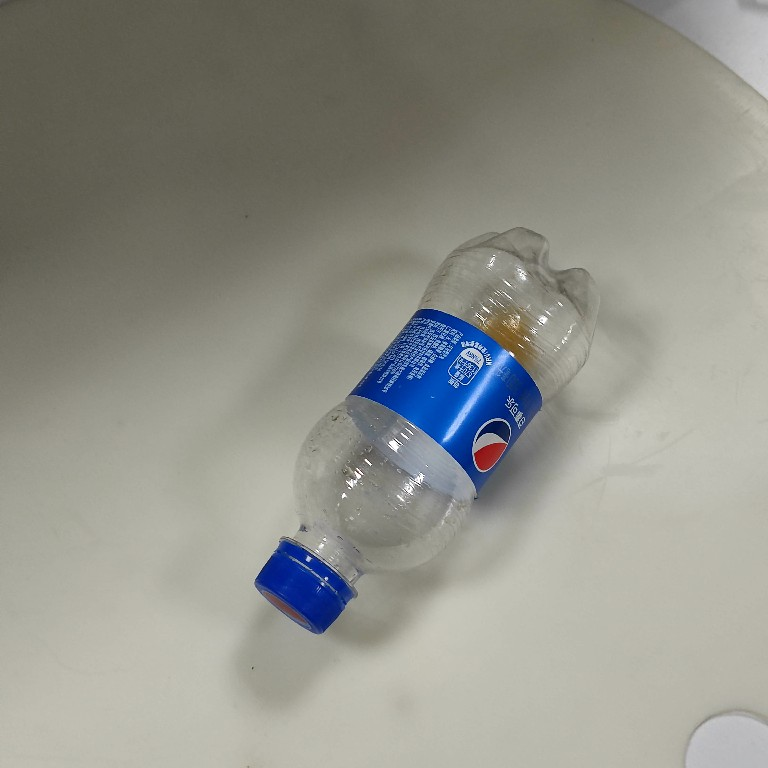bottle: (242, 217, 606, 642)
